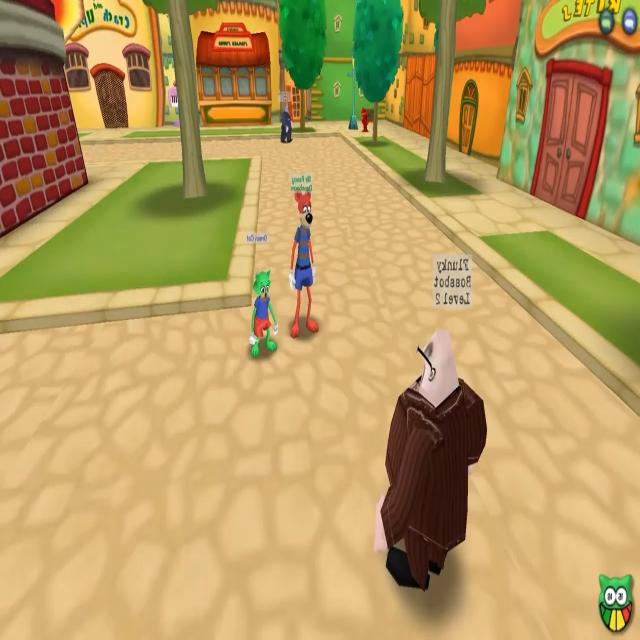bottomfeeder: (275, 88, 296, 148)
flunky: (375, 258, 482, 598)
